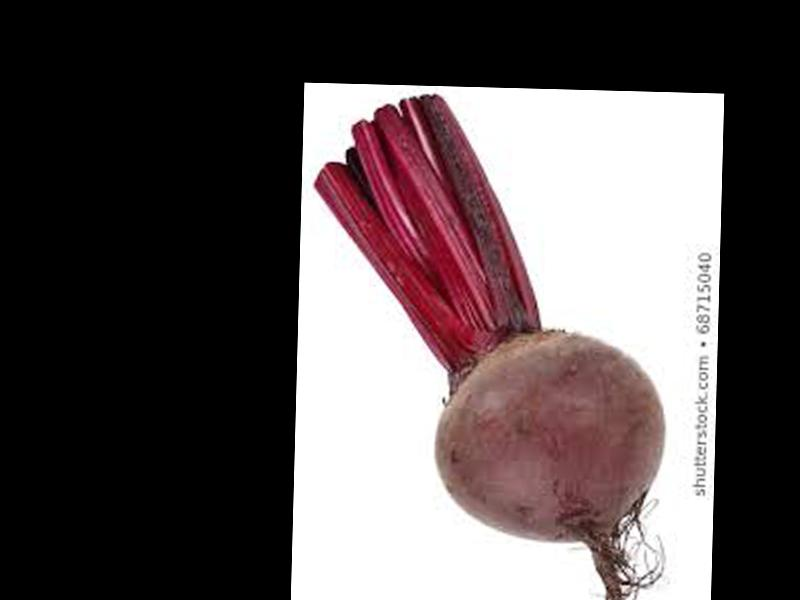Beet: (305, 91, 671, 600)
